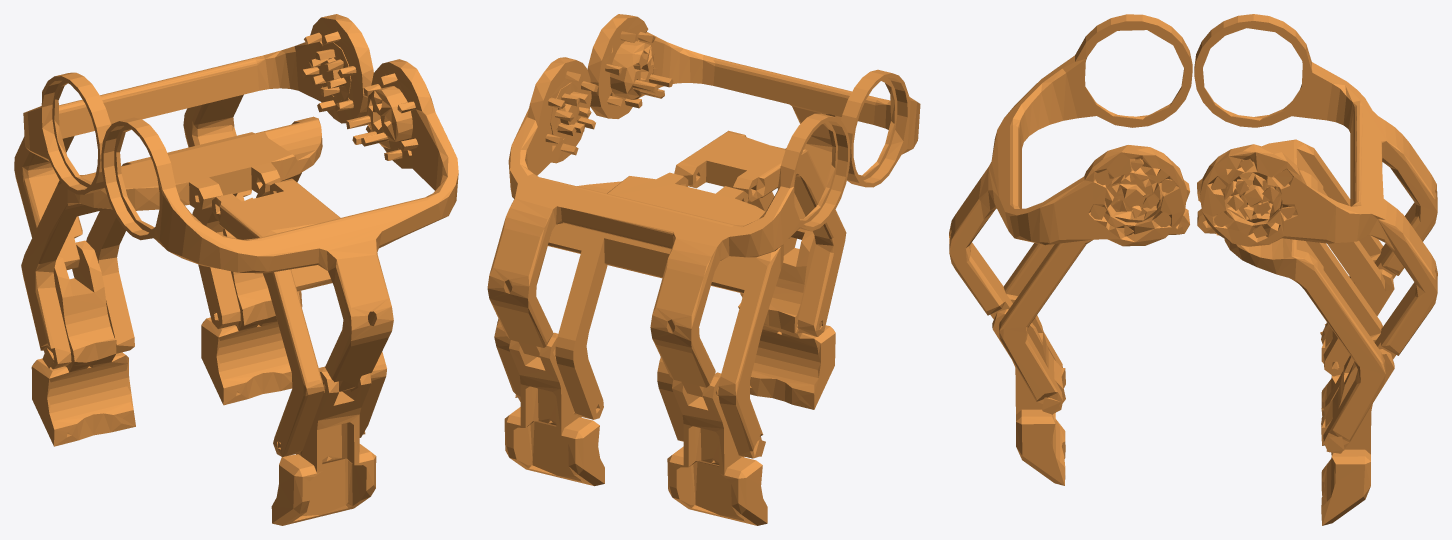
The model's file is gripper_tweezers.dae.
3 renders of one model, left to right at view 1: azimuth 30°, elevation 25°; view 2: azimuth 150°, elevation 25°; view 3: azimuth 270°, elevation 25°, orthographic. The views are drawn at different scales.
Visible parts, largest first — view 1: gripper_tweezers; view 2: gripper_tweezers; view 3: gripper_tweezers.
Boxes of the visible parts, <box> form: gripper_tweezers: <box>14,14,458,525</box>; gripper_tweezers: <box>487,14,920,525</box>; gripper_tweezers: <box>949,14,1437,525</box>.
Bounding box in the file's own units: 0.1059 × 0.1656 × 0.1436.
